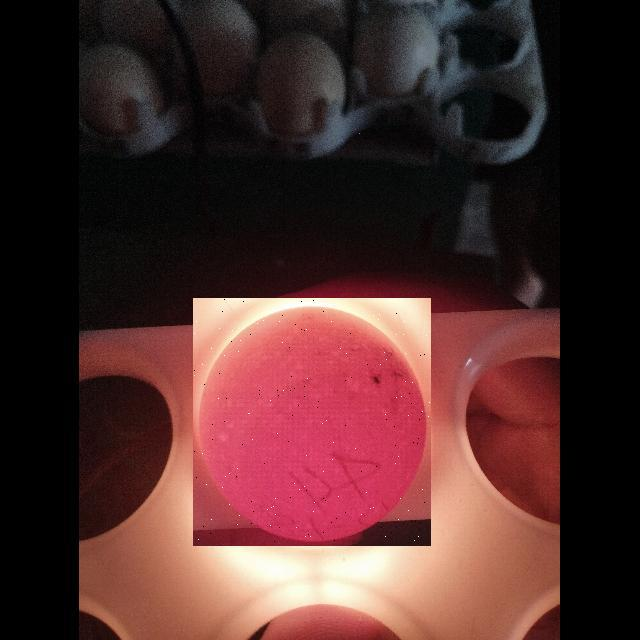Infertile: (193, 298, 431, 546)
